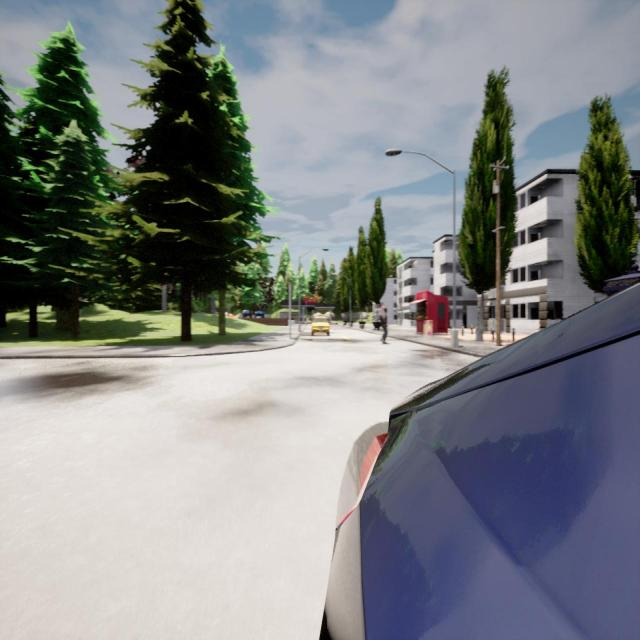Pedestrian: (380, 308, 388, 343)
Vehicle: (326, 286, 640, 638), (312, 316, 329, 336)
